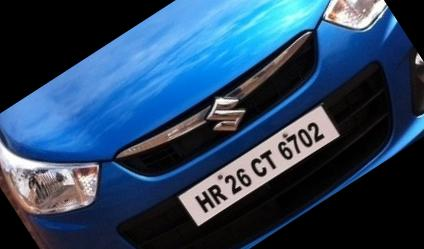plate: (165, 84, 358, 243)
